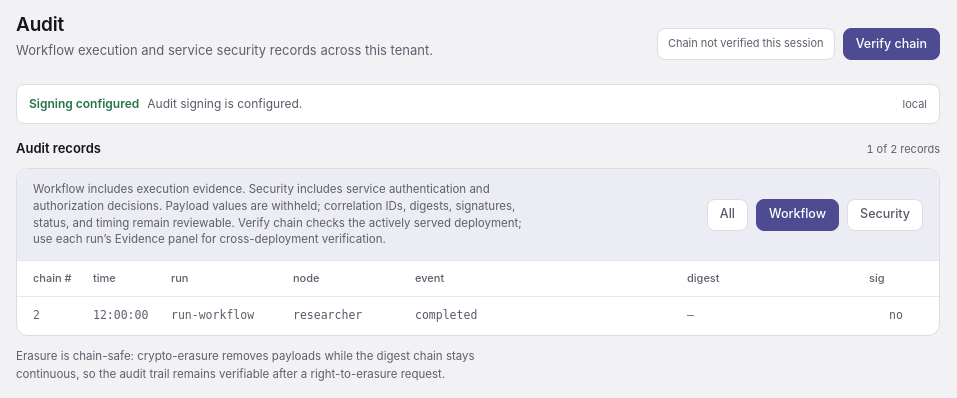
Scenario: audit record views › surfaces the exact failed audit record when verification rejects a broken chain
Click the button "Verify chain": coordinates (891, 44) x1=843 y1=28 x2=940 y2=60
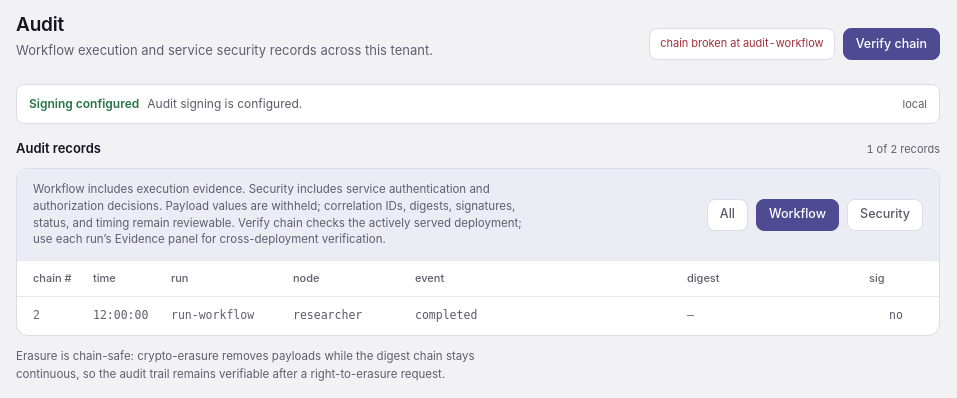
Check: the text "chain broken at audit-workflow" is shown, box x1=649 y1=28 x2=835 y2=60
